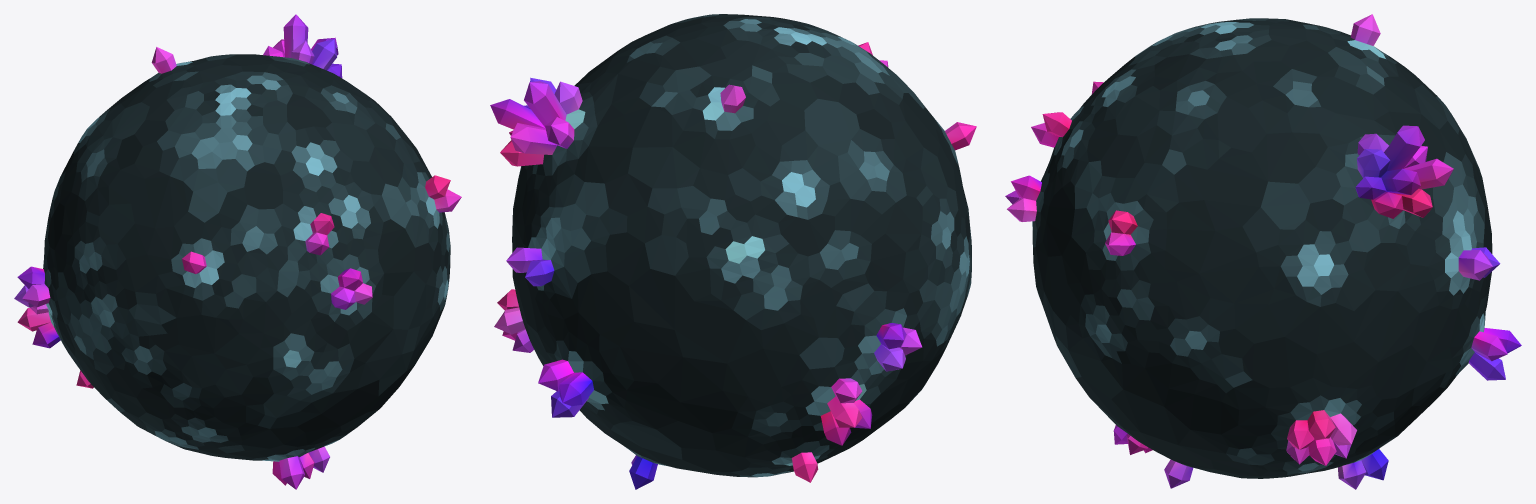
Rendered from Crystal_planet_1.fbx.
3 renders of one model, left to right at view 1: azimuth 30°, elevation 25°; view 2: azimuth 150°, elevation 25°; view 3: azimuth 270°, elevation 25°, orthographic. The views are drawn at different scales.
Parts seen in each view (by area): view 1: file6; view 2: file6; view 3: file6.
Boxes of the visible parts, left/top/right/bottom form: file6: left=14, top=14, right=461, bottom=489; file6: left=490, top=14, right=976, bottom=489; file6: left=1005, top=14, right=1521, bottom=489.
Bounding box in the file's own units: 2.15 × 2.06 × 2.24.
